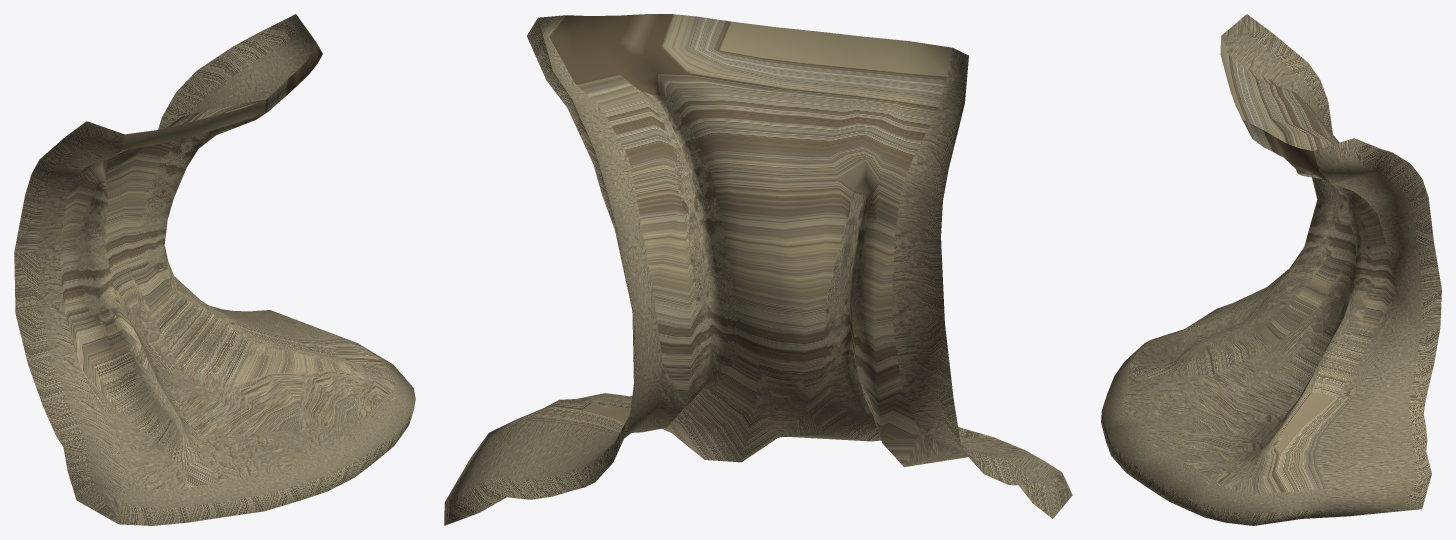
Rendered from saltmine_convex_02.dae.
3 views of the same model, side by side, from view 1: azimuth 30°, elevation 25°; view 2: azimuth 150°, elevation 25°; view 3: azimuth 270°, elevation 25° (orthographic). The views are drawn at different scales.
Parts seen in each view (by area): view 1: corner_convex_02; view 2: corner_convex_02; view 3: corner_convex_02.
Part boxes in pixels (x1=…): corner_convex_02: x1=14, y1=14, x2=415, y2=525; corner_convex_02: x1=444, y1=14, x2=1072, y2=525; corner_convex_02: x1=1101, y1=14, x2=1441, y2=525.
Size of the model in its own units: 8.15 by 7.78 by 6.64.
